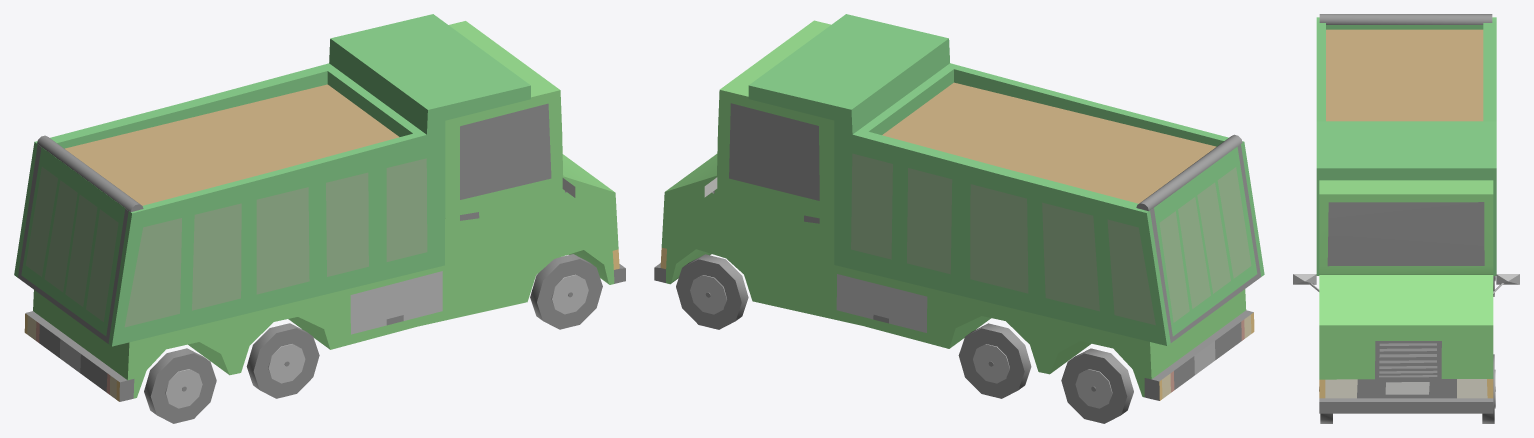
Rendered from truck1.fbx.
3 renders of one model, left to right at view 1: azimuth 30°, elevation 25°; view 2: azimuth 150°, elevation 25°; view 3: azimuth 270°, elevation 25°, orthographic. The views are drawn at different scales.
Parts seen in each view (by area): view 1: Cylinder_2, Cylinder, Cylinder_9, Cylinder_6; view 2: Cylinder_2, Cylinder_8, Cylinder_1, Cylinder_7; view 3: Cylinder_2, Cylinder_7.
Boxes of the visible parts, left/top/right/bottom form: Cylinder_2: left=14, top=14, right=625, bottom=401; Cylinder: left=246, top=323, right=319, bottom=398; Cylinder_9: left=144, top=348, right=216, bottom=423; Cylinder_6: left=530, top=254, right=602, bottom=329; Cylinder_2: left=654, top=14, right=1264, bottom=400; Cylinder_8: left=1061, top=348, right=1133, bottom=423; Cylinder_1: left=958, top=323, right=1031, bottom=398; Cylinder_7: left=676, top=254, right=748, bottom=329; Cylinder_2: left=1293, top=14, right=1519, bottom=413; Cylinder_7: left=1482, top=354, right=1495, bottom=423.
Size of the model in its own units: 597 by 281 by 247.
